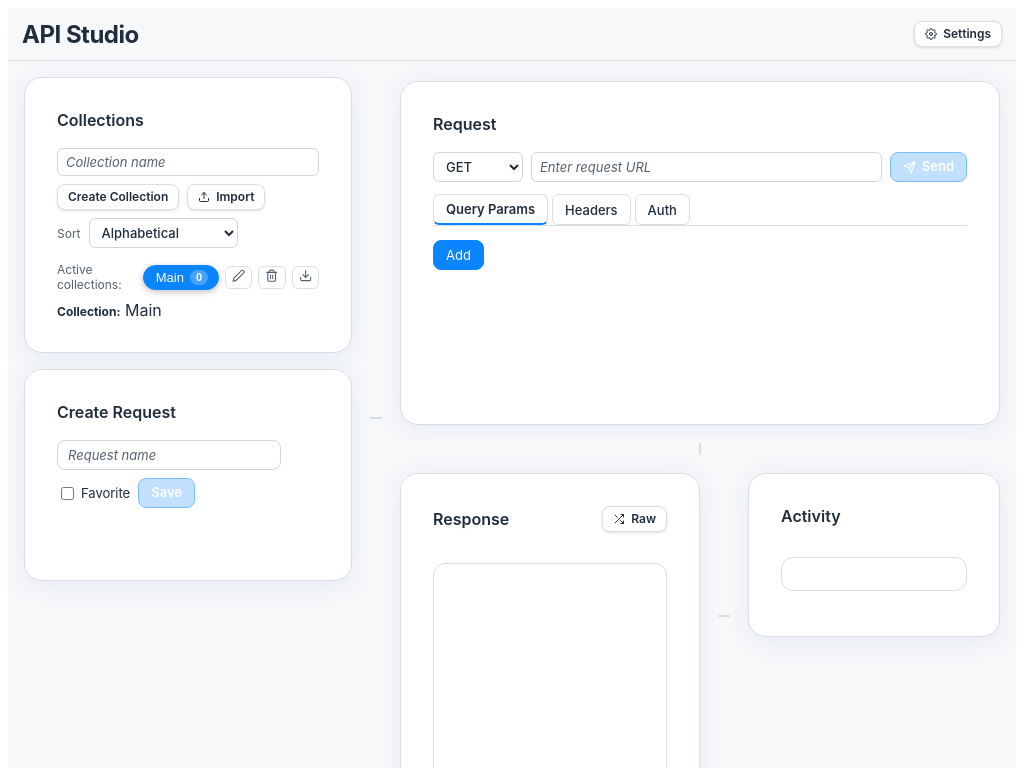
it: Collection create error dialog › shows error dialog when collection name is empty
Click the button "Create Collection" at (118, 197), box 57,184 -> 179,210
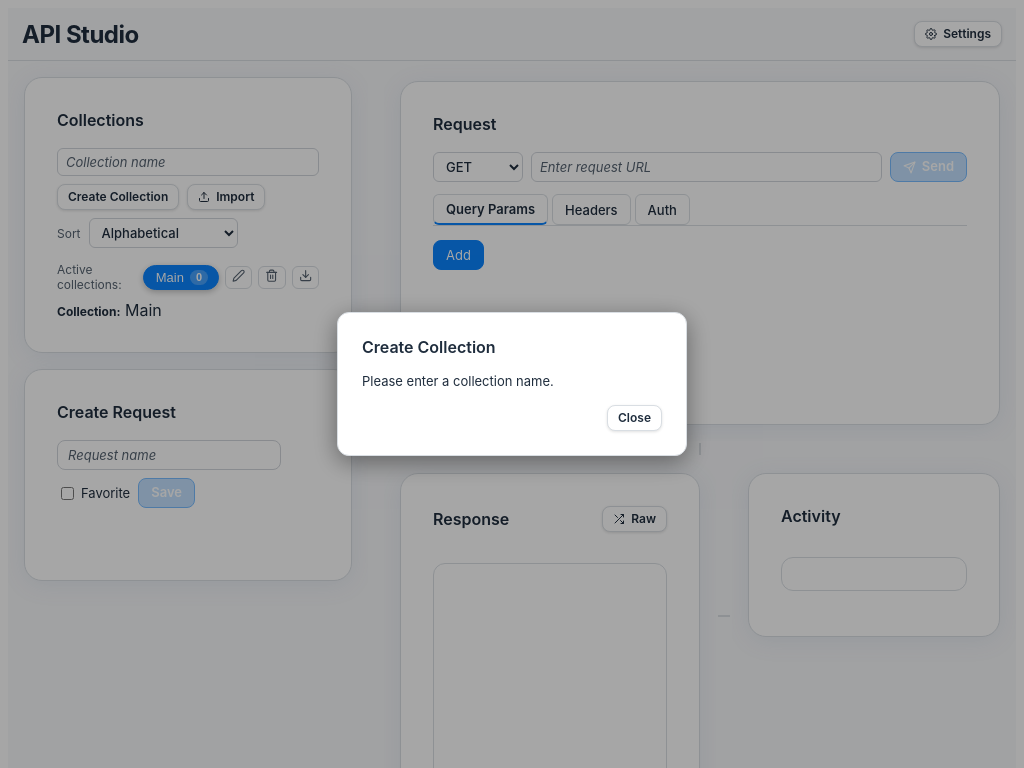
expect the dialog is shown: met
expect the text "Please enter a collection name." is shown: met, box 362,373 -> 554,389
Click the button "Close" at (634, 418), box 607,405 -> 662,431
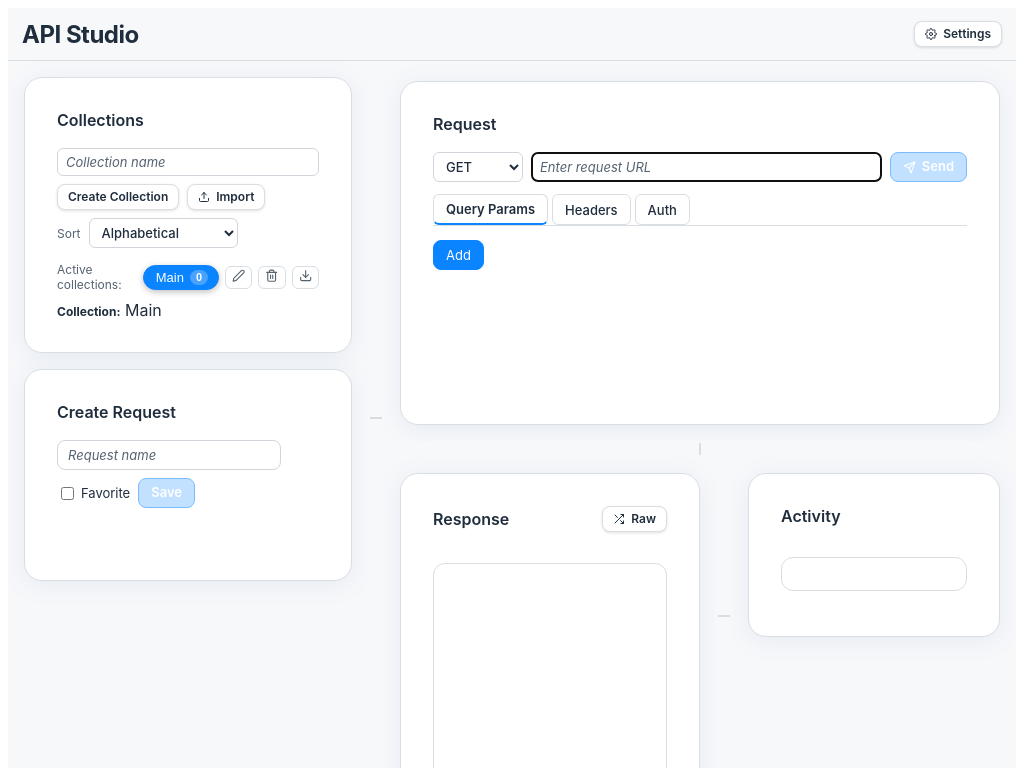
expect the dialog is gone: met
